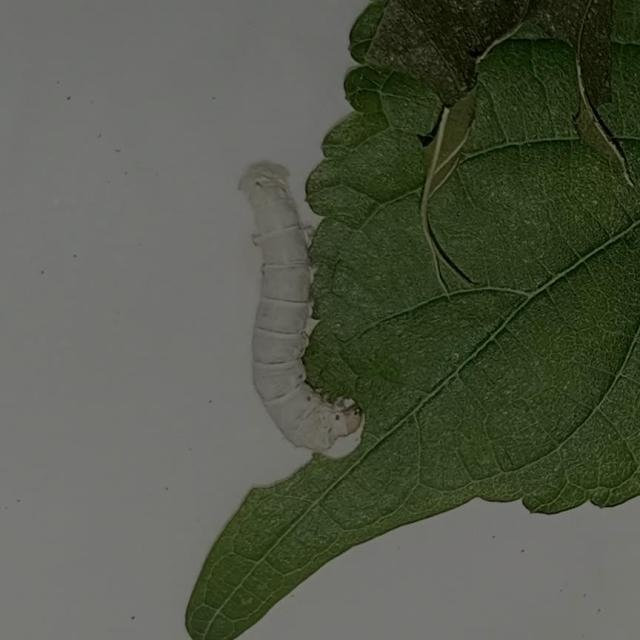Healthy: (226, 156, 390, 474)
